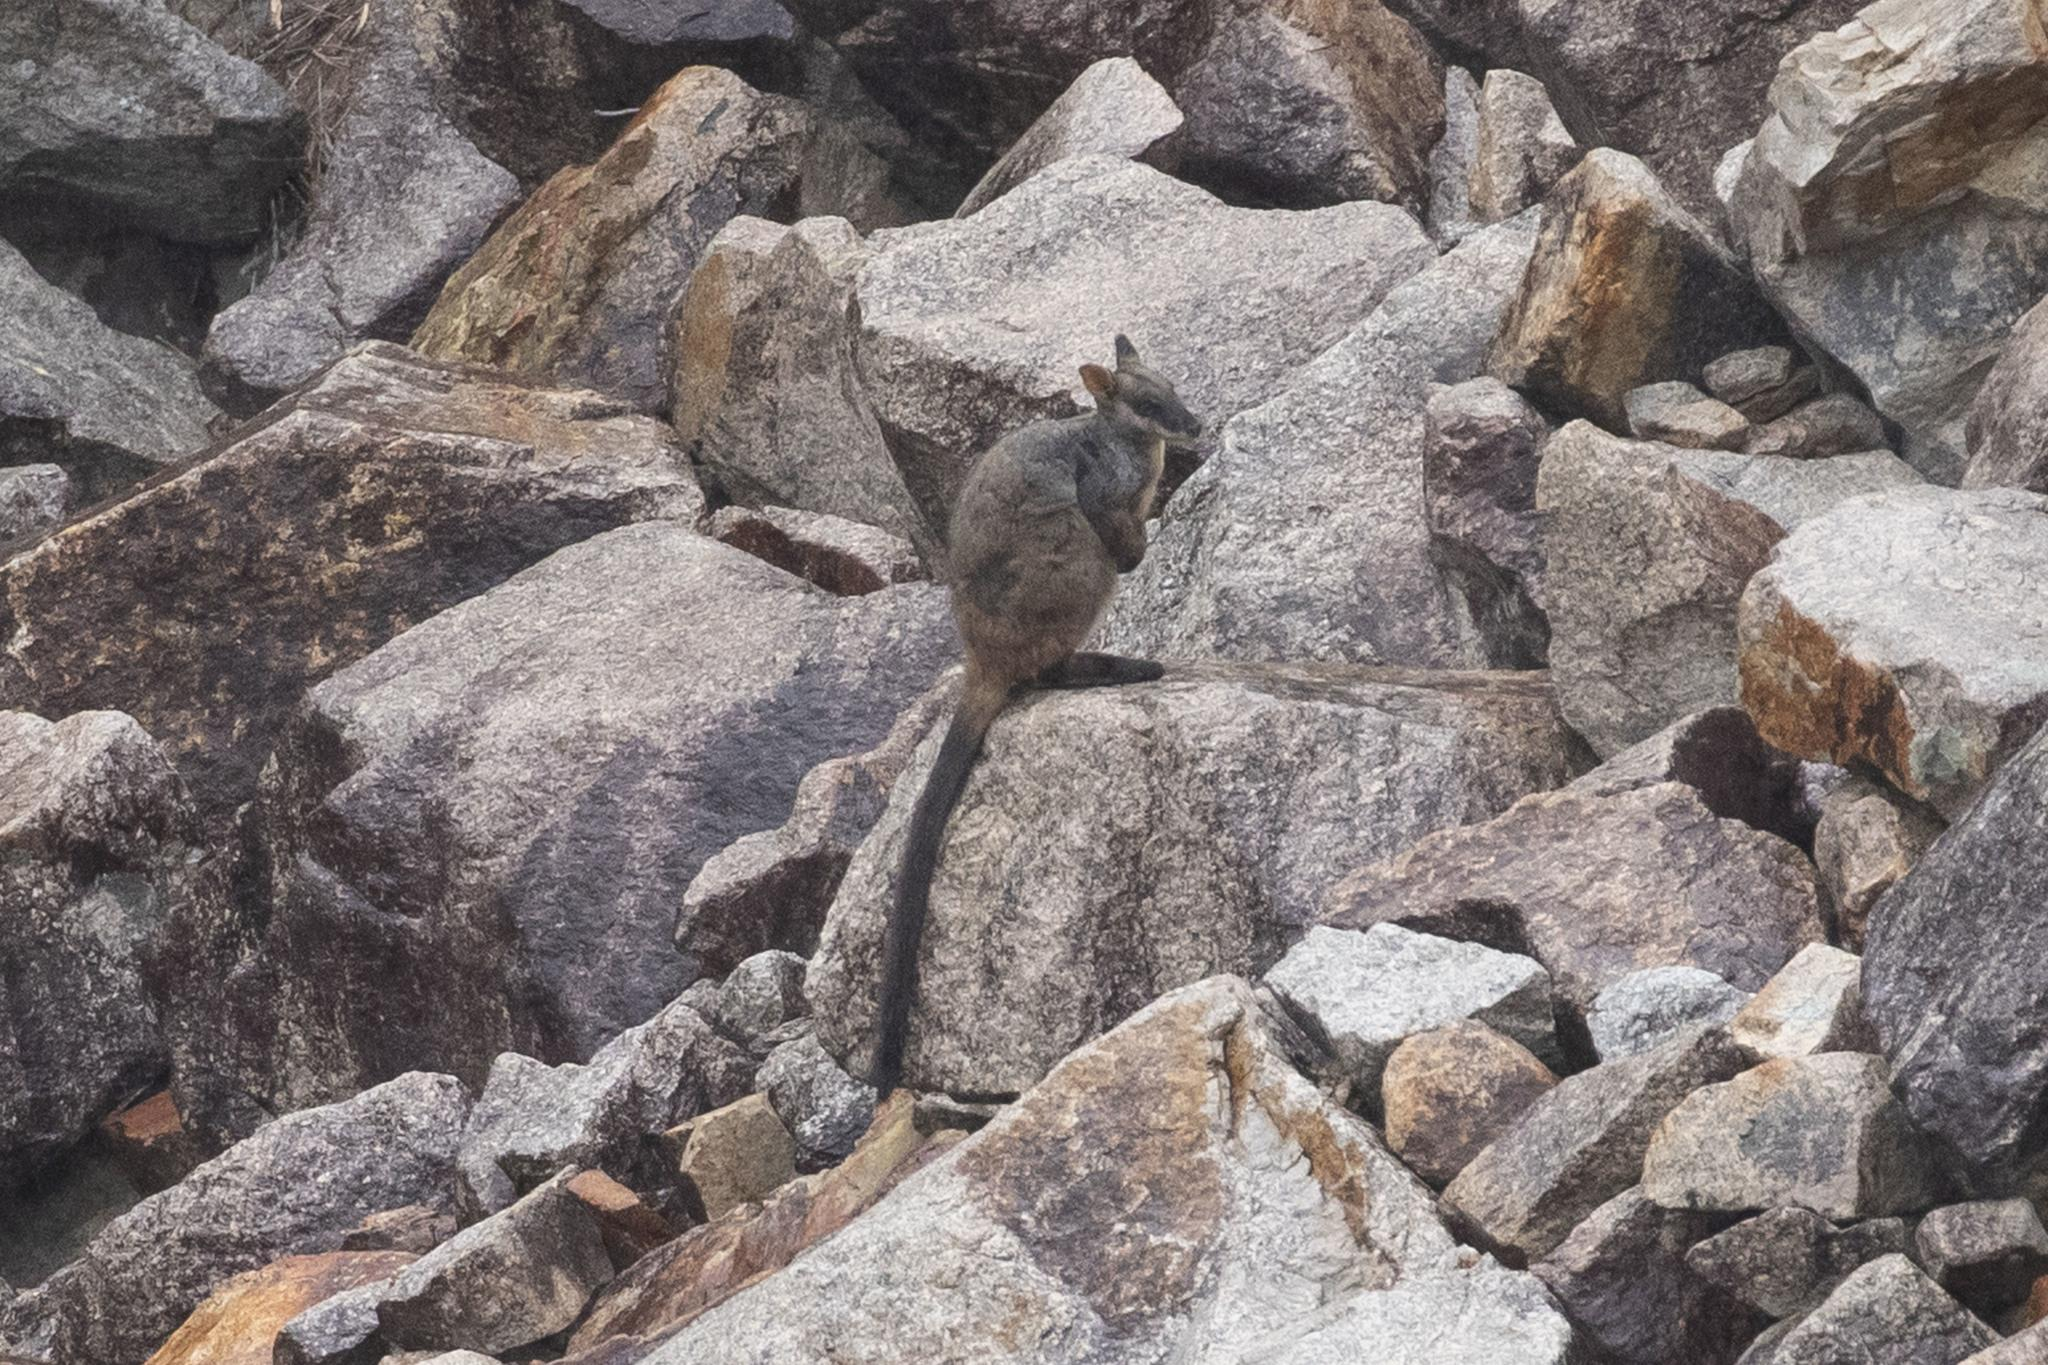Brush-tailed rock-wallaby: (857, 328, 1212, 1104)
